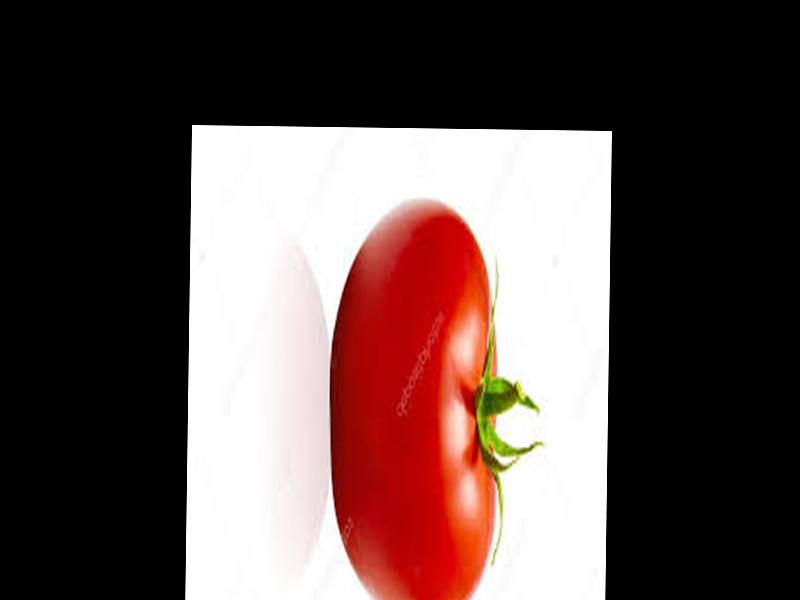Tomato: (327, 197, 499, 600)
